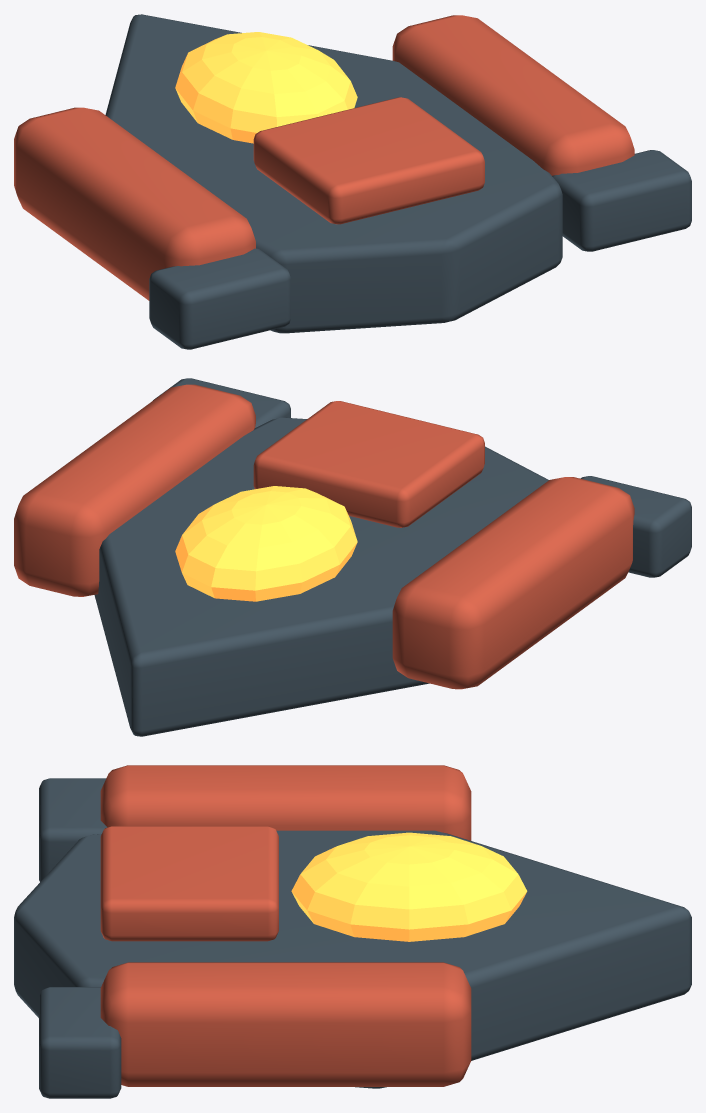
File: drone.glb
3 renders of one model, top to bottom at view 1: azimuth 30°, elevation 25°; view 2: azimuth 150°, elevation 25°; view 3: azimuth 270°, elevation 25°, orthographic. The views are drawn at different scales.
Visible parts, largest first — view 1: Sentry diamond chassis, Sentry armored outrigger, Sentry central armor, Sentry armored outrigger.001, Sentry single glowing optic, Sentry stabilizer, Sentry stabilizer.001; view 2: Sentry diamond chassis, Sentry armored outrigger, Sentry armored outrigger.001, Sentry central armor, Sentry single glowing optic, Sentry stabilizer, Sentry stabilizer.001; view 3: Sentry diamond chassis, Sentry armored outrigger.001, Sentry armored outrigger, Sentry central armor, Sentry single glowing optic, Sentry stabilizer.001, Sentry stabilizer.
Part boxes in pixels (box(x1,y1,x2,y2)): Sentry diamond chassis: box(105, 14, 562, 333); Sentry armored outrigger: box(14, 107, 255, 300); Sentry central armor: box(253, 97, 484, 224); Sentry armored outrigger.001: box(392, 15, 634, 175); Sentry single glowing optic: box(175, 32, 357, 143); Sentry stabilizer: box(149, 248, 290, 349); Sentry stabilizer.001: box(552, 150, 691, 251); Sentry diamond chassis: box(94, 417, 548, 736); Sentry armored outrigger: box(392, 477, 634, 689); Sentry armored outrigger.001: box(14, 384, 255, 596); Sentry central armor: box(253, 401, 484, 527); Sentry single glowing optic: box(175, 486, 357, 601); Sentry stabilizer: box(580, 476, 691, 577); Sentry stabilizer.001: box(153, 378, 290, 427); Sentry diamond chassis: box(14, 830, 691, 1088); Sentry armored outrigger.001: box(100, 962, 471, 1086); Sentry armored outrigger: box(100, 765, 471, 840); Sentry central armor: box(100, 826, 278, 941); Sentry single glowing optic: box(291, 832, 527, 941); Sentry stabilizer.001: box(39, 987, 121, 1098); Sentry stabilizer: box(39, 778, 107, 881).
Size of the model in its own units: 2.3 by 0.6 by 2.47.
